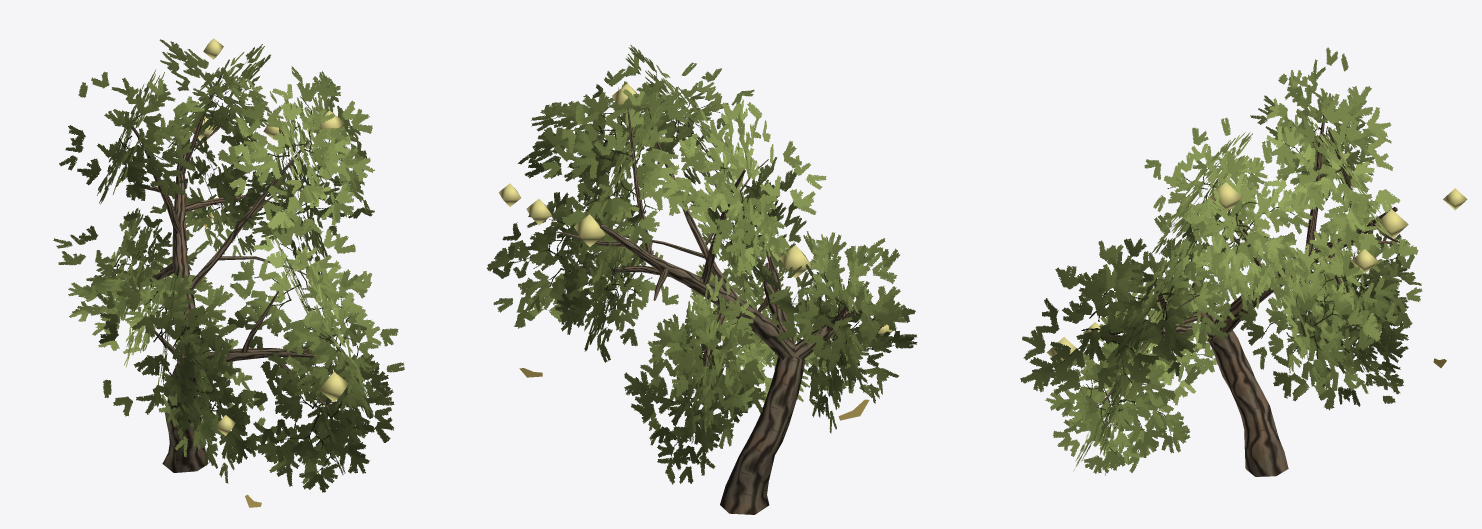
File: young-a.lod1.glb
The picture shows the model from 3 angles, left to right: view 1: azimuth 30°, elevation 25°; view 2: azimuth 150°, elevation 25°; view 3: azimuth 270°, elevation 25°; orthographic projection. The views are drawn at different scales.
Visible parts, largest first — view 1: foliage, bark, flowers; view 2: foliage, bark, flowers; view 3: foliage, bark, flowers.
Boxes of the visible parts, box(x1,y1,x2,y2) form: foliage: box(53, 39, 404, 492); bark: box(128, 59, 336, 472); flowers: box(190, 38, 348, 435); foliage: box(486, 45, 917, 484); bark: box(557, 108, 856, 514); flowers: box(498, 83, 892, 335); foliage: box(1020, 47, 1422, 475); bark: box(1102, 115, 1399, 476); flowers: box(1046, 182, 1467, 362).
Bounding box in the file's own units: 3.14 × 3.5 × 3.45.
4 materials, 2 textured.
